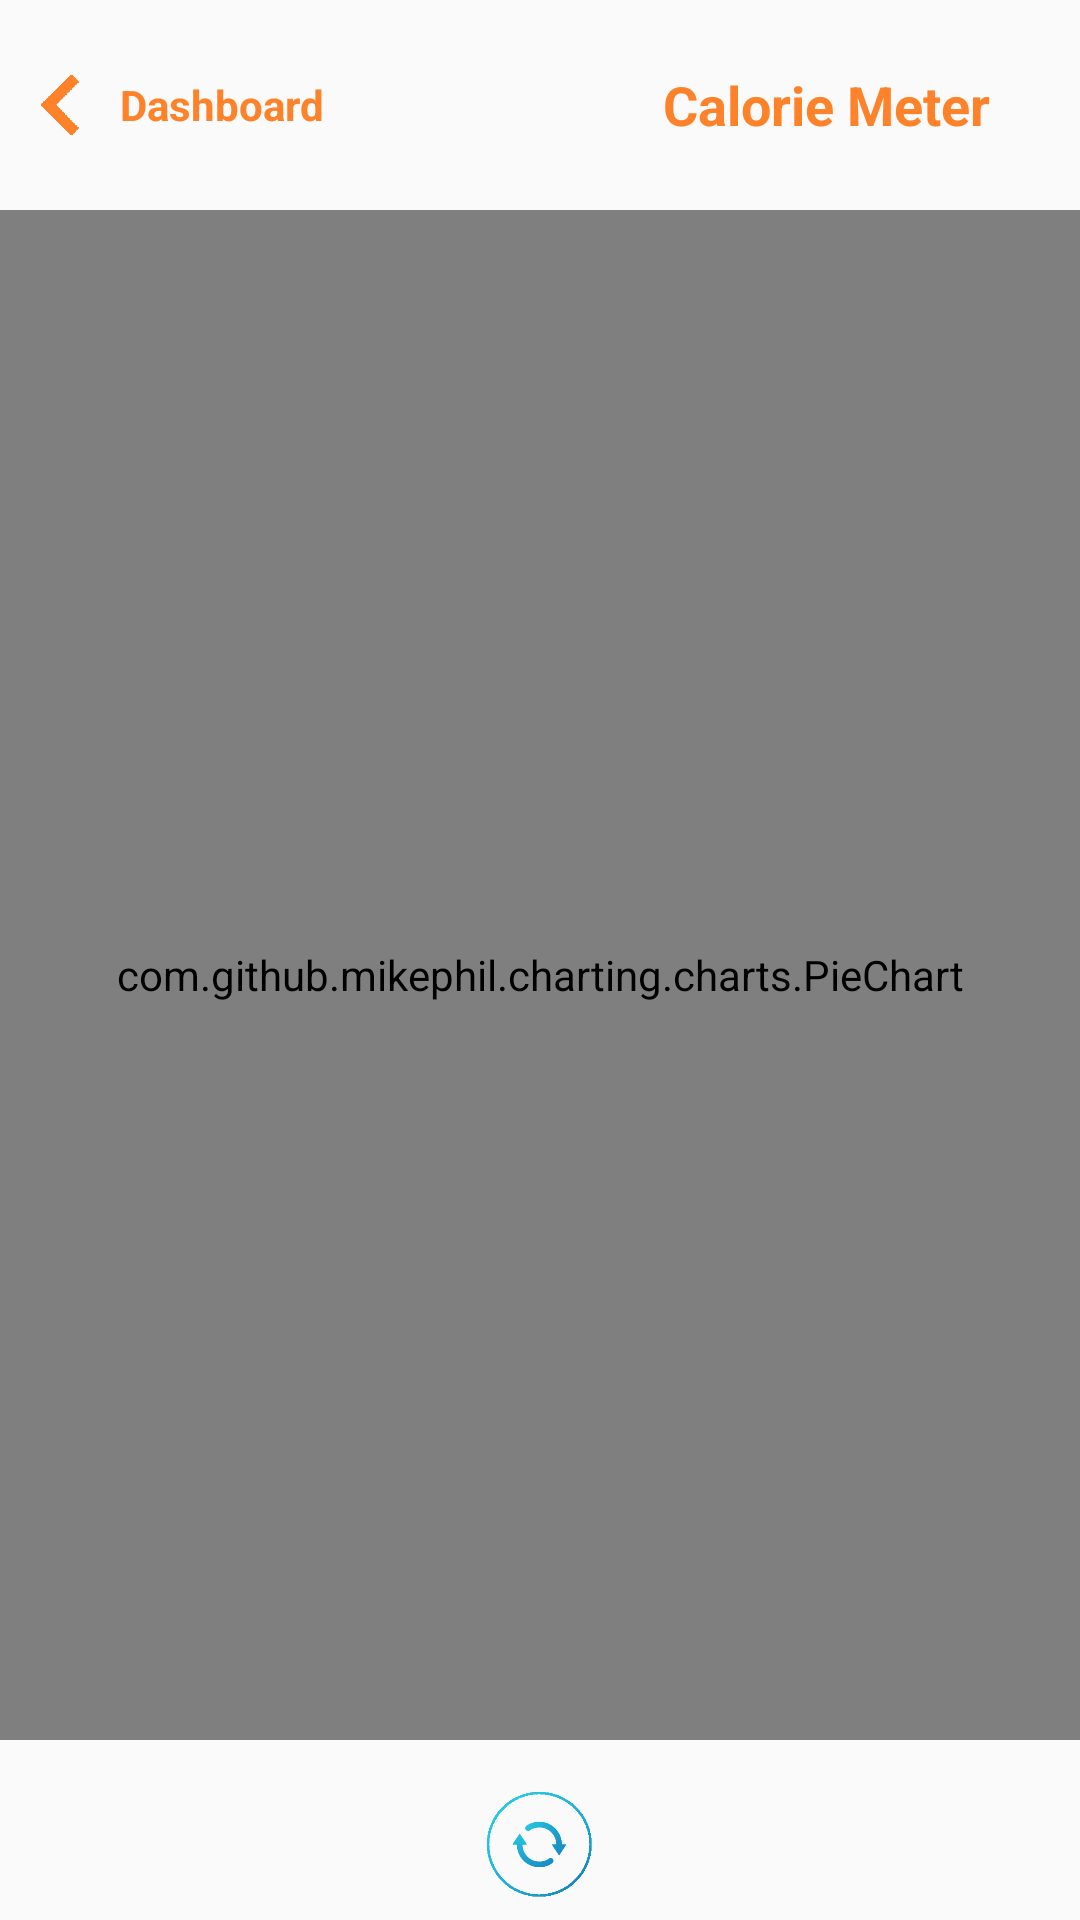

Icons on this 1080x1920 Android screen, each with the point to tap as point (x, y):
back: point (60, 105)
refreshhome: point (539, 1844)
